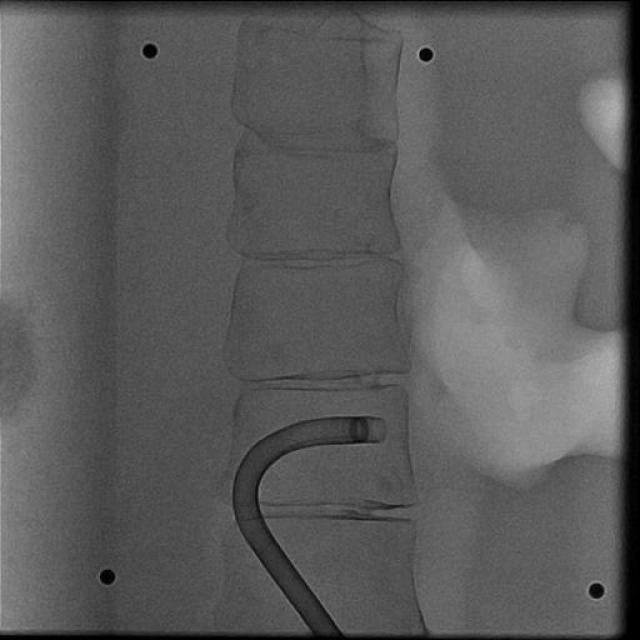bend: (233, 497, 260, 514)
entry: (309, 624, 342, 636)
marker: (350, 416, 370, 444)
tip: (368, 418, 388, 442)
